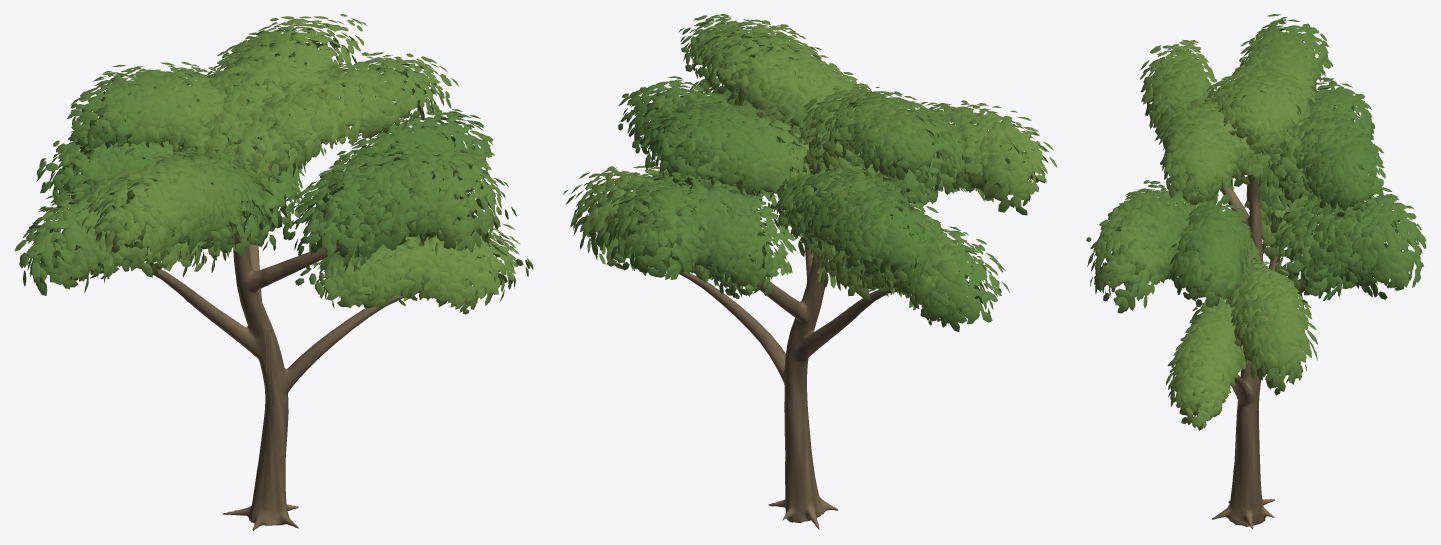
File: sample-tree-02.glb
The picture shows the model from 3 angles, left to right: view 1: azimuth 30°, elevation 25°; view 2: azimuth 150°, elevation 25°; view 3: azimuth 270°, elevation 25°; orthographic projection. The views are drawn at different scales.
Visible parts, largest first — view 1: Sample continuous branch leaf sweeps, Sample connected trunk and directional branches; view 2: Sample continuous branch leaf sweeps, Sample connected trunk and directional branches; view 3: Sample continuous branch leaf sweeps, Sample connected trunk and directional branches.
Boxes of the visible parts, x1,y1,x2,y2 form: Sample continuous branch leaf sweeps: [14, 14, 533, 314]; Sample connected trunk and directional branches: [131, 107, 414, 530]; Sample continuous branch leaf sweeps: [563, 14, 1057, 331]; Sample connected trunk and directional branches: [679, 89, 907, 529]; Sample continuous branch leaf sweeps: [1086, 14, 1426, 430]; Sample connected trunk and directional branches: [1212, 174, 1306, 528].
Size of the model in its own units: 10.67 by 10.75 by 7.14.
Materials: 2 (1 with a texture image).
